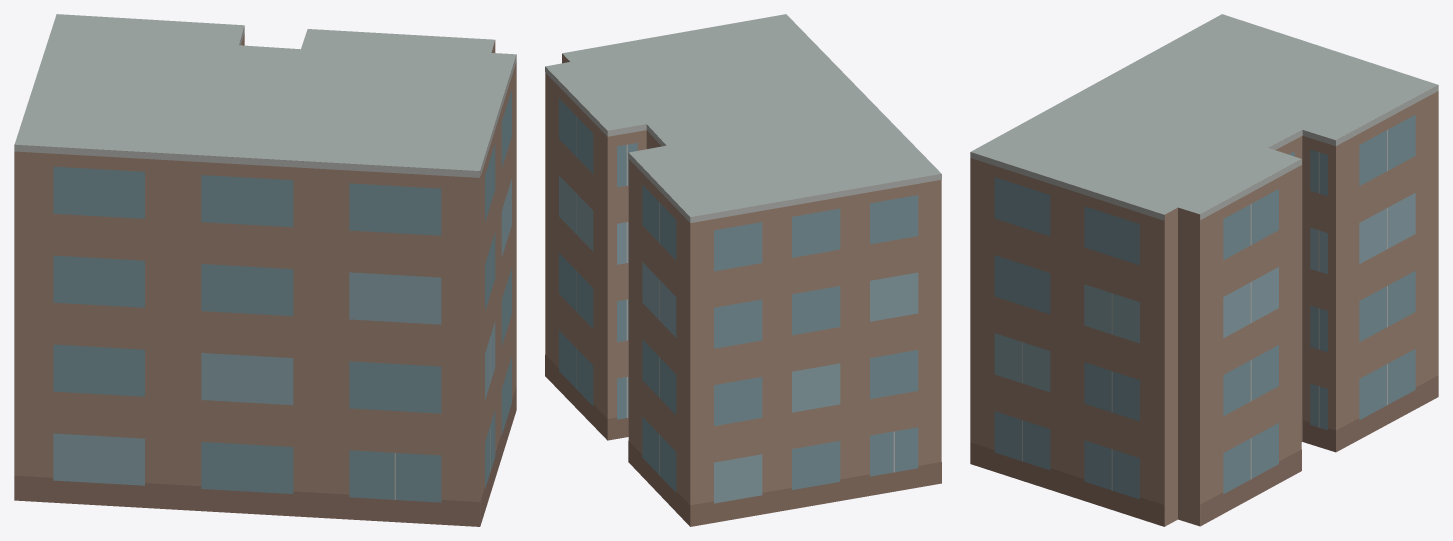
Rendered from survey-upis-33018291.glb.
3 renders of one model, left to right at view 1: azimuth 30°, elevation 25°; view 2: azimuth 150°, elevation 25°; view 3: azimuth 270°, elevation 25°, orthographic. The views are drawn at different scales.
Visible parts, largest first — view 1: survey-upis-33018291.tmp; view 2: survey-upis-33018291.tmp; view 3: survey-upis-33018291.tmp.
Part boxes in pixels (bbox=[...]): survey-upis-33018291.tmp: bbox=[14, 14, 516, 526]; survey-upis-33018291.tmp: bbox=[545, 14, 941, 526]; survey-upis-33018291.tmp: bbox=[970, 14, 1438, 526].
Bounding box in the file's own units: 17.68 × 12.8 × 17.41.
